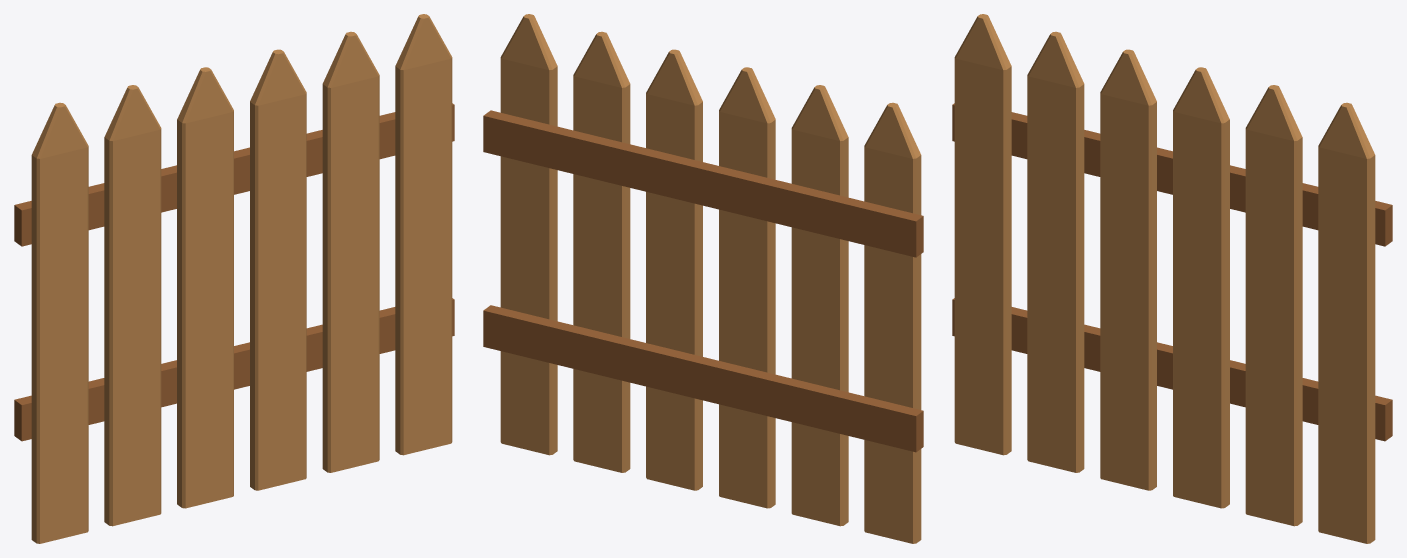
Rendered from wood_fence.obj.
3 views of the same model, side by side, from view 1: azimuth 30°, elevation 25°; view 2: azimuth 150°, elevation 25°; view 3: azimuth 330°, elevation 25° (orthographic).
Visible parts, largest first — view 1: wood_fence; view 2: wood_fence; view 3: wood_fence.
Boxes of the visible parts, x1=… form: wood_fence: x1=14, y1=14, x2=454, y2=543; wood_fence: x1=483, y1=14, x2=923, y2=543; wood_fence: x1=952, y1=14, x2=1392, y2=543.
Bounding box in the file's own units: 1 × 0.95 × 0.06.
